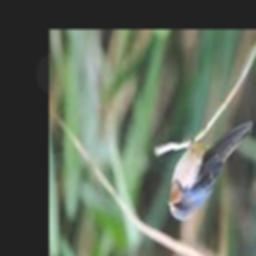Swallow: (169, 121, 255, 220)
